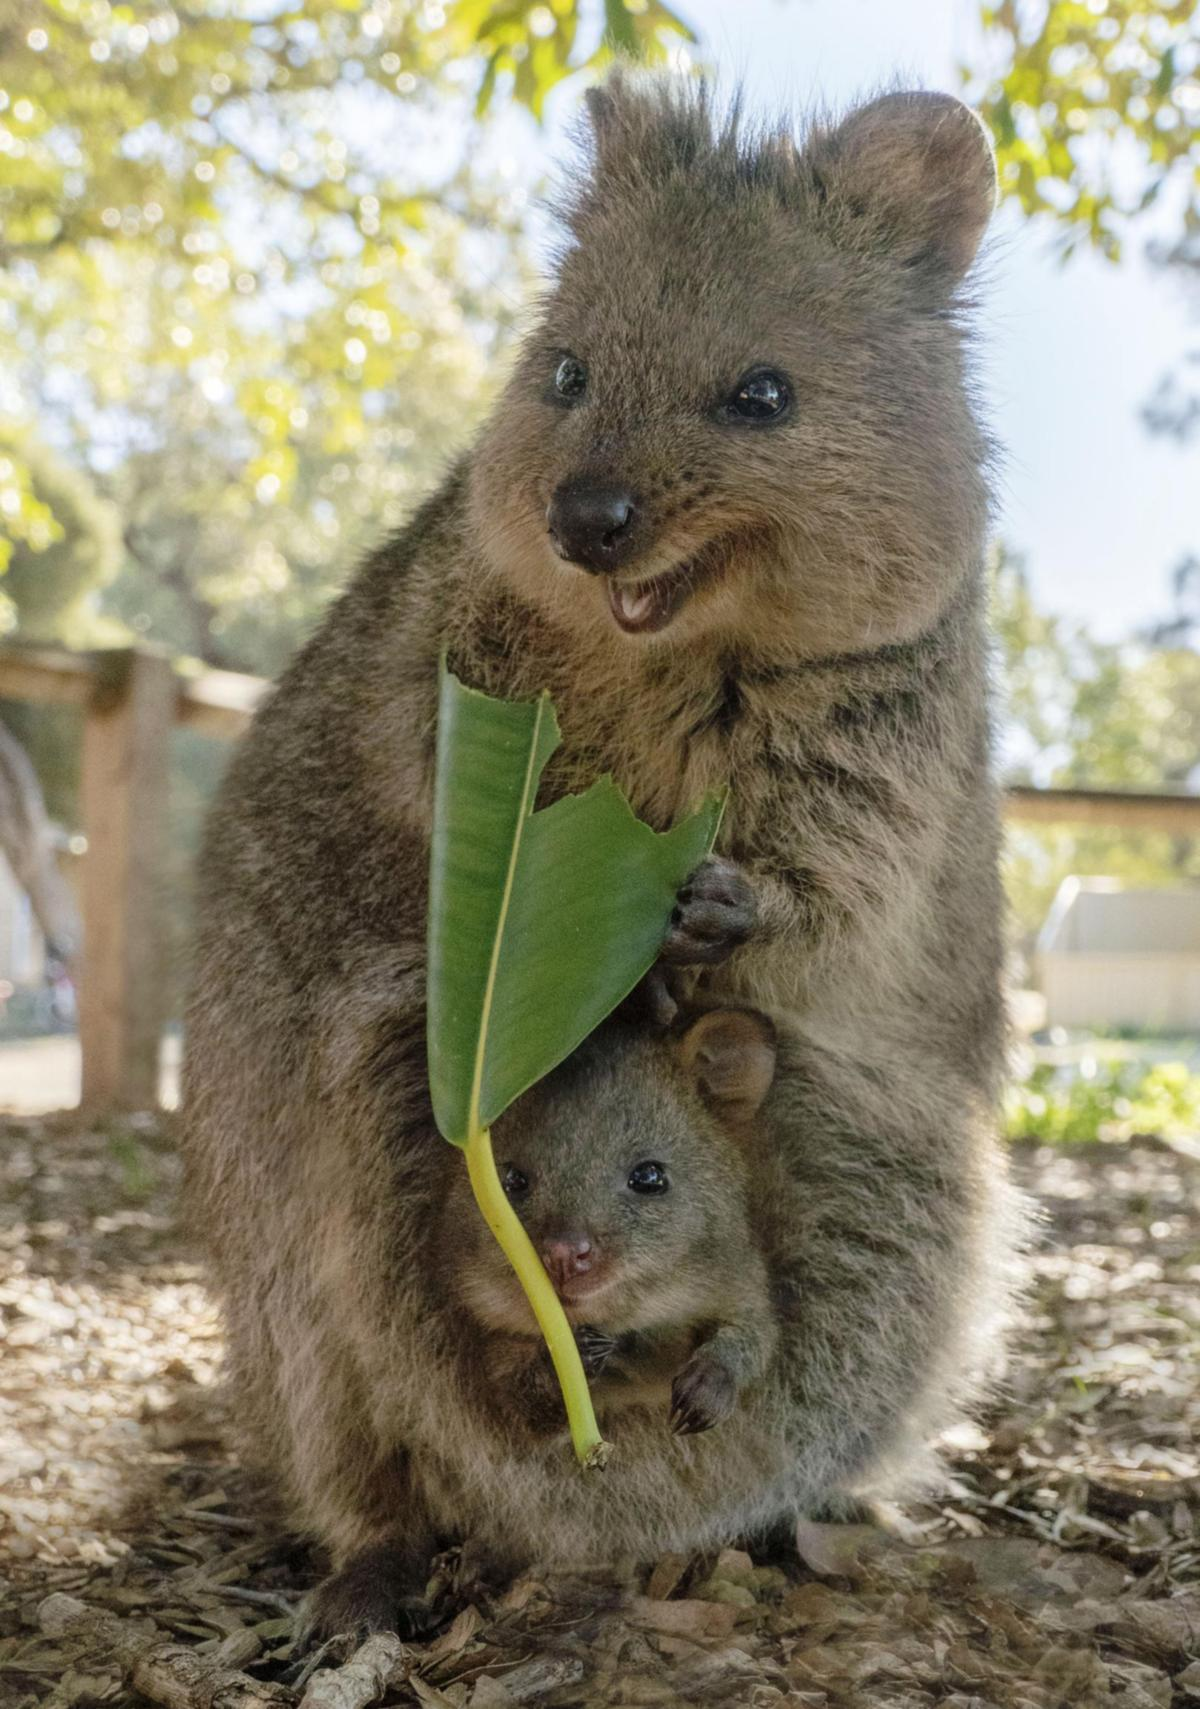quokka: (65, 73, 1053, 1684)
